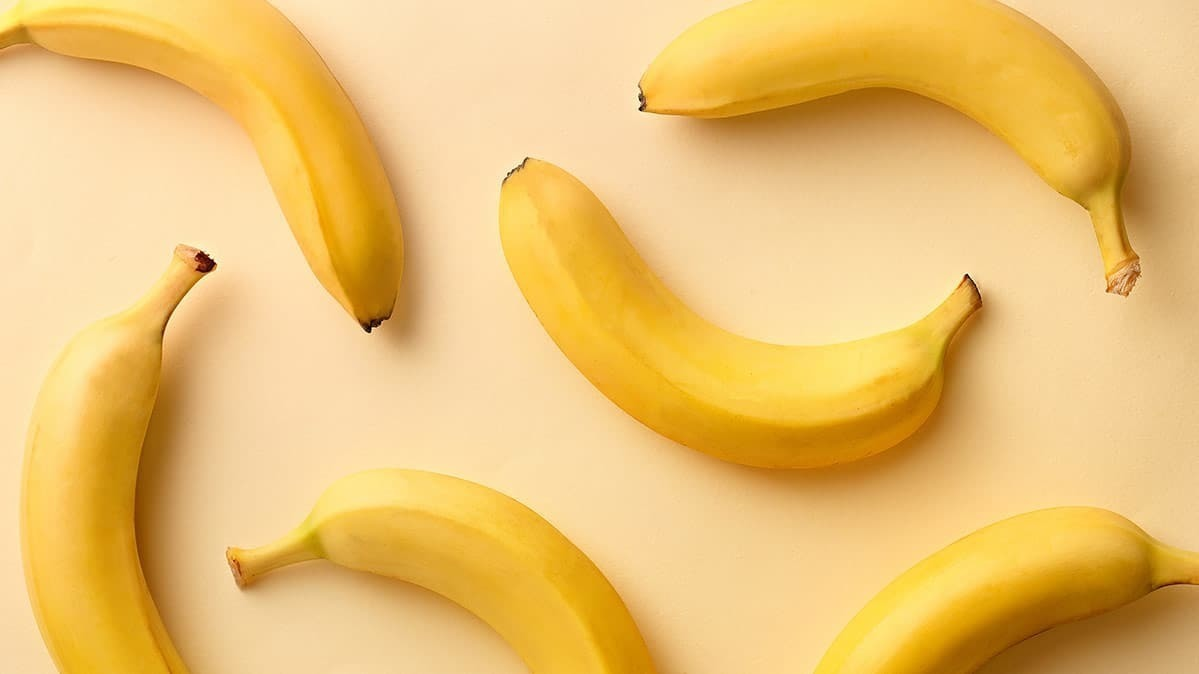banana: (497, 154, 979, 466), (13, 6, 412, 323), (634, 12, 1151, 219), (719, 458, 1188, 674), (243, 456, 661, 674), (15, 288, 188, 671)
